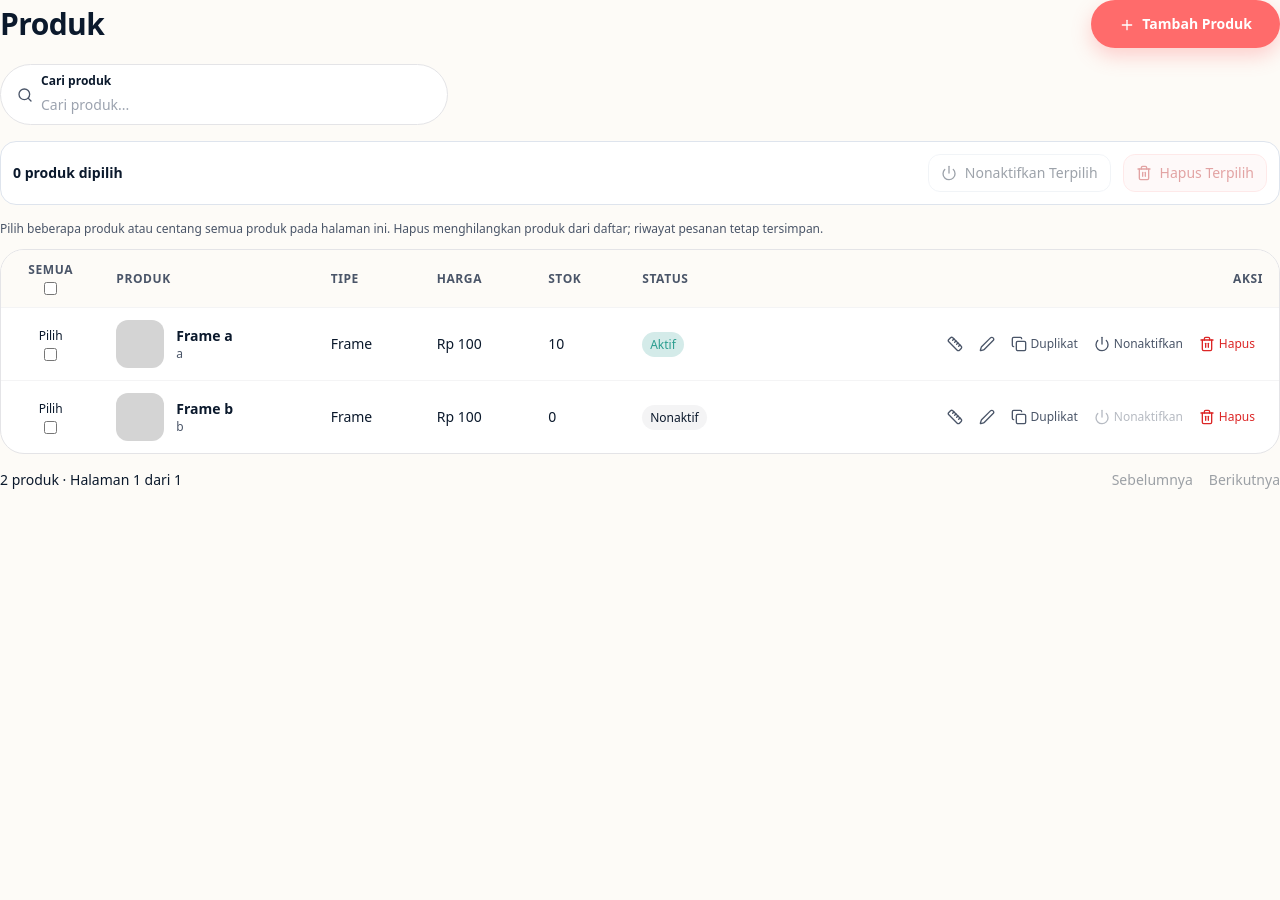
saving other product changes preserves inactive variants and new variants start active
The image size is (1280, 900).
Click the button with test id "edit-a" at (986, 344), box x1=970 y1=328 x2=1002 y2=360
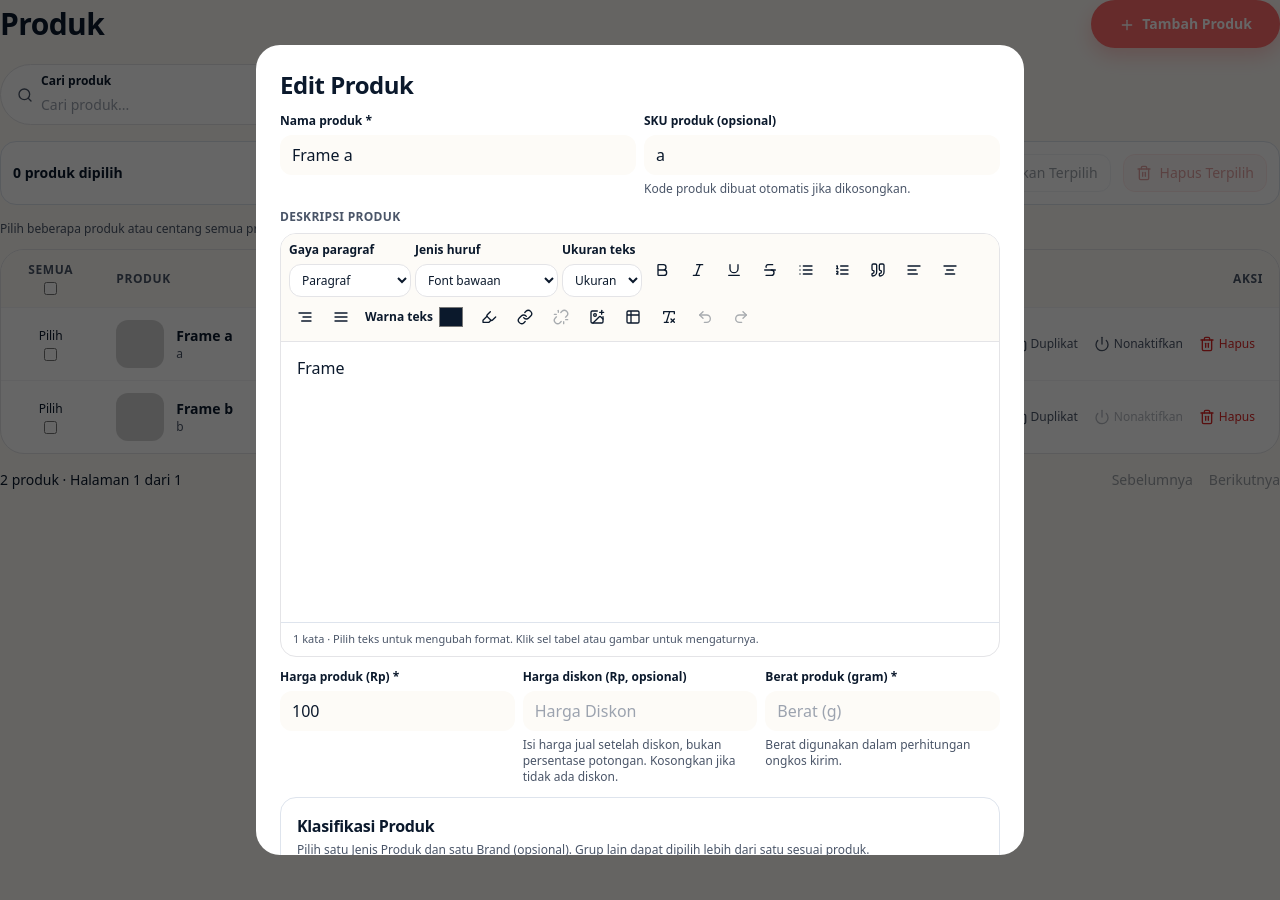
Submit the form with test id "product-form", box x1=256 y1=45 x2=1024 y2=855
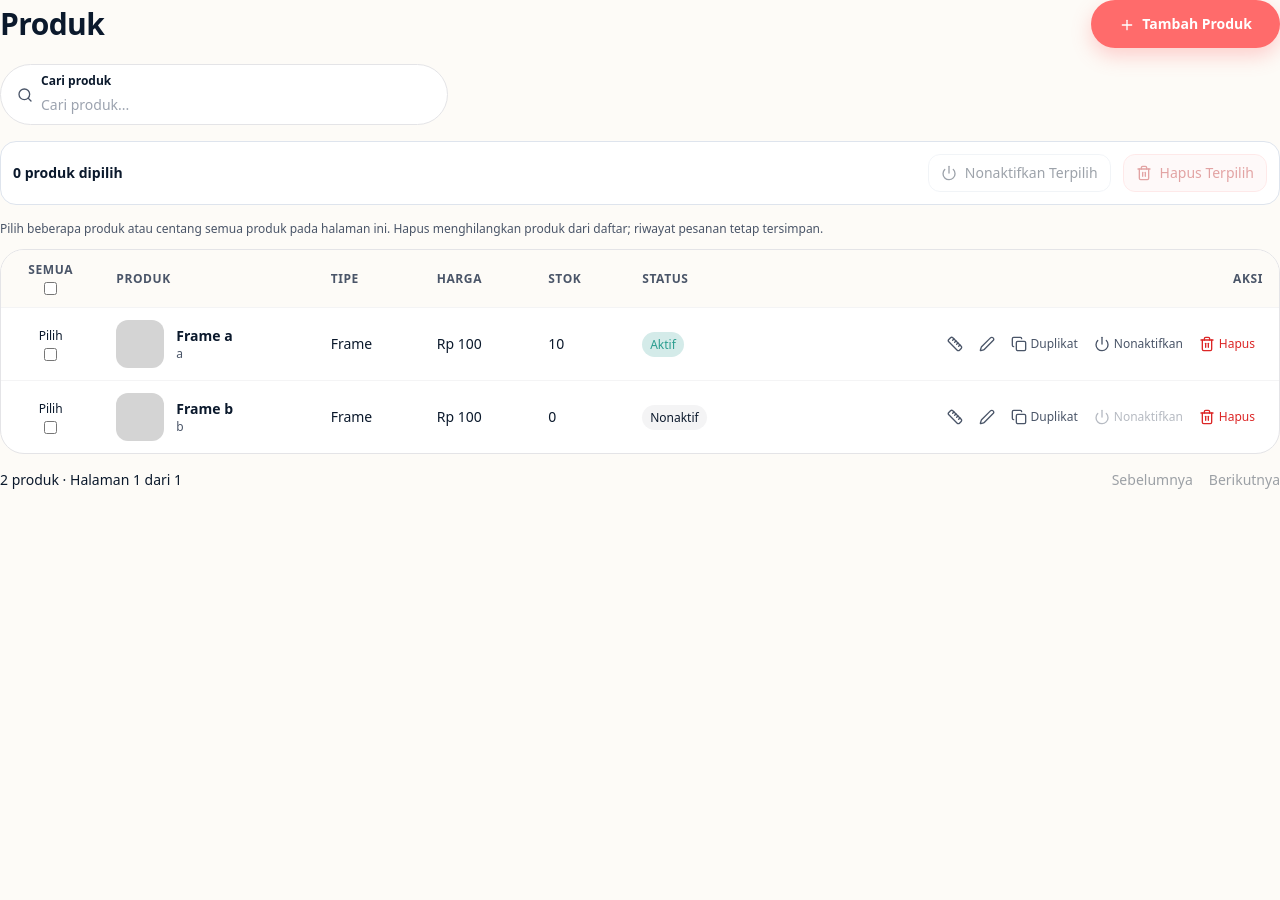
Click the button with test id "new-product-btn" at (1185, 24), box x1=1091 y1=0 x2=1279 y2=48
(page scrolled)
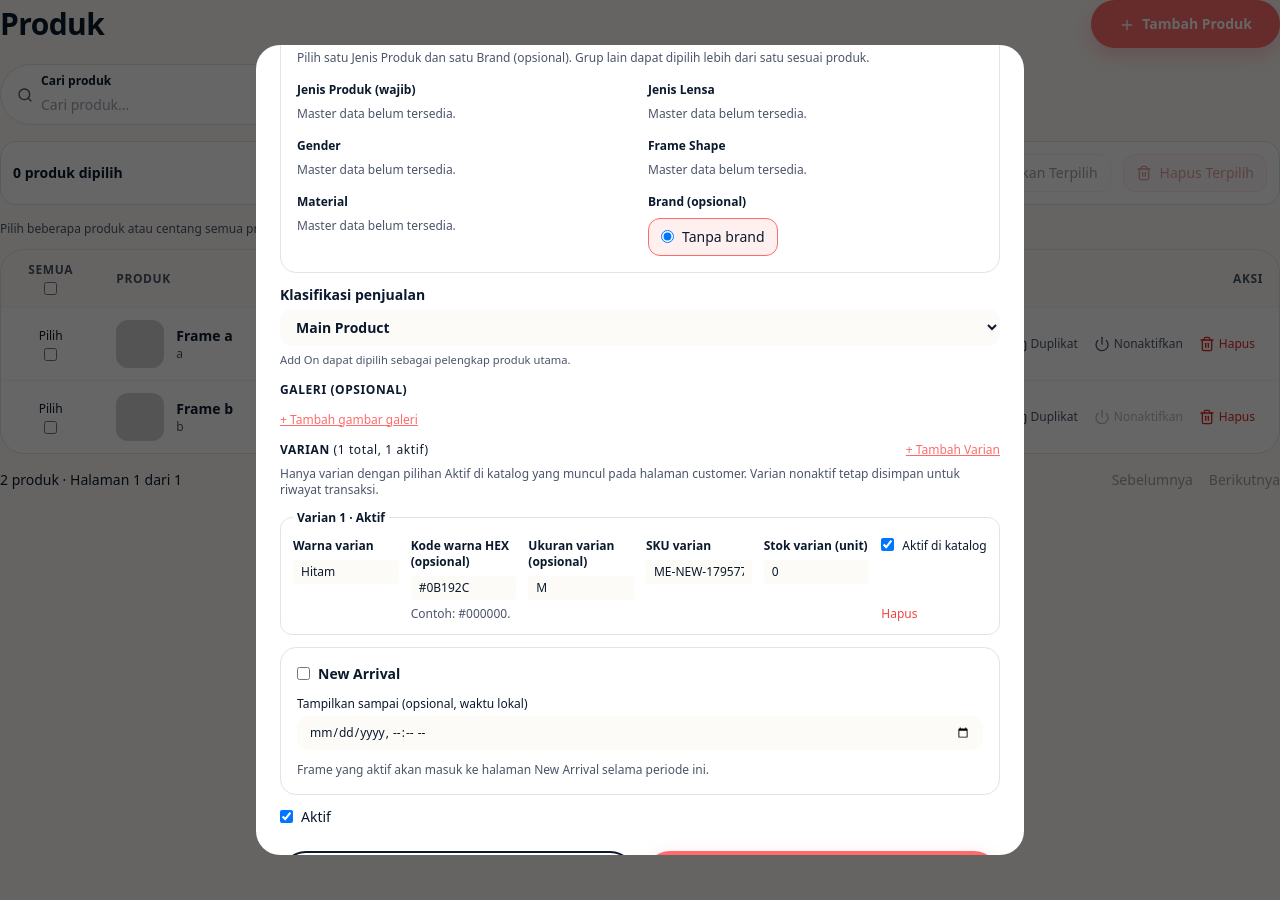
Expected: the checkbox with test id "pf-variant-active-0" is checked, x1=881 y1=538 x2=894 y2=550
Click the button with test id "pf-add-variant" at (953, 450), box x1=906 y1=442 x2=1000 y2=458
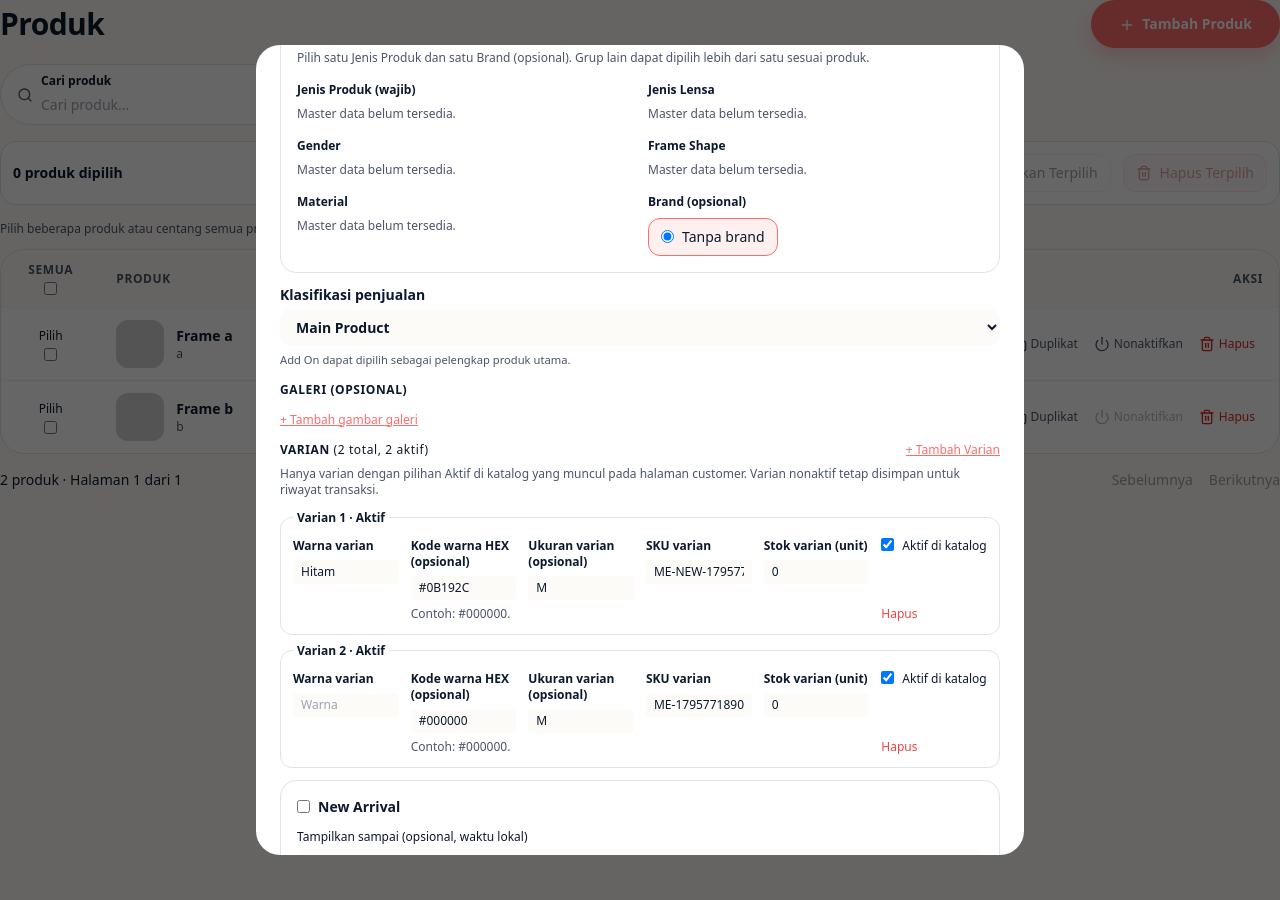
Expected: the checkbox with test id "pf-variant-active-1" is checked, x1=881 y1=670 x2=894 y2=684
